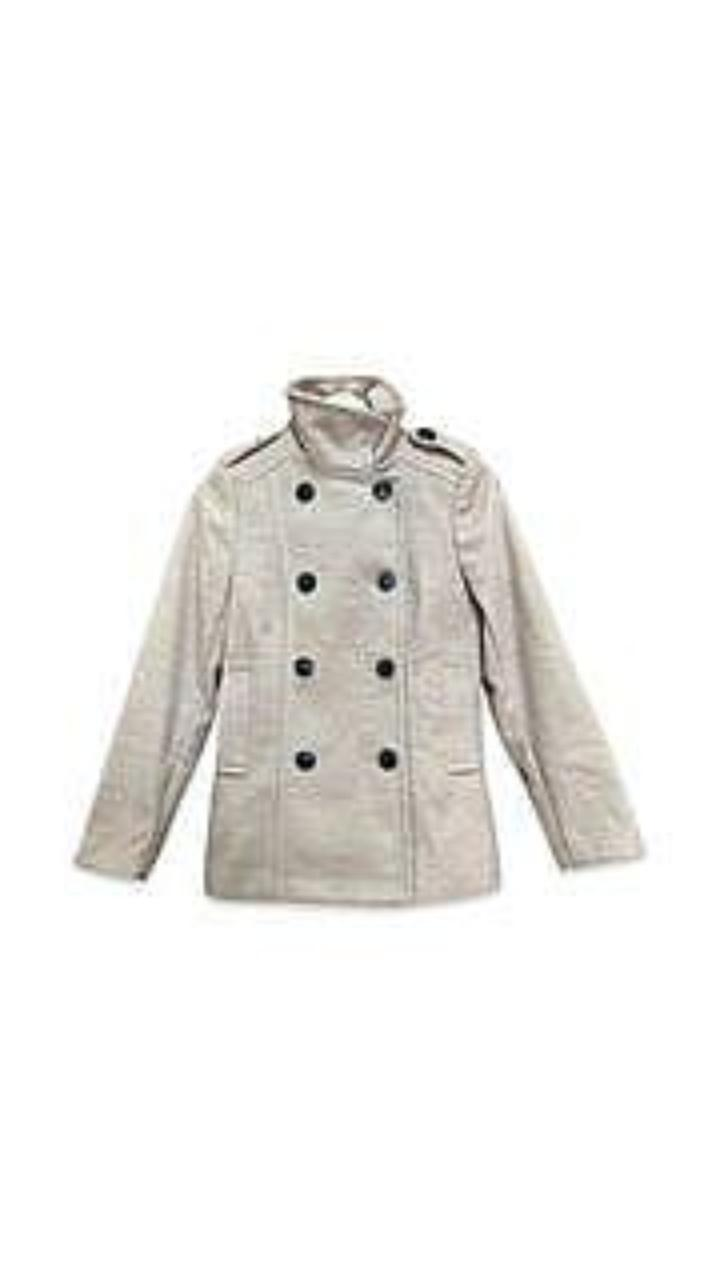Coat: (76, 376, 642, 902)
